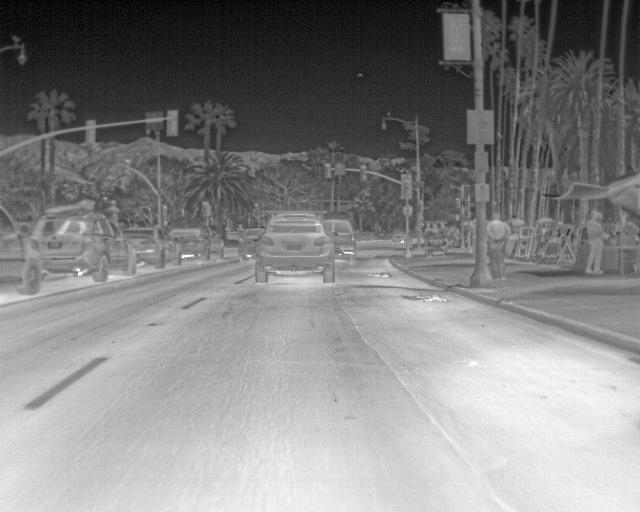bicycle: (33, 207, 130, 283), (255, 207, 338, 284), (0, 204, 45, 297), (125, 225, 183, 270), (165, 227, 223, 259), (322, 216, 357, 263), (236, 224, 269, 263)
empty: (484, 209, 511, 283), (582, 208, 608, 278), (421, 220, 435, 235), (437, 221, 450, 234), (429, 221, 441, 235)
